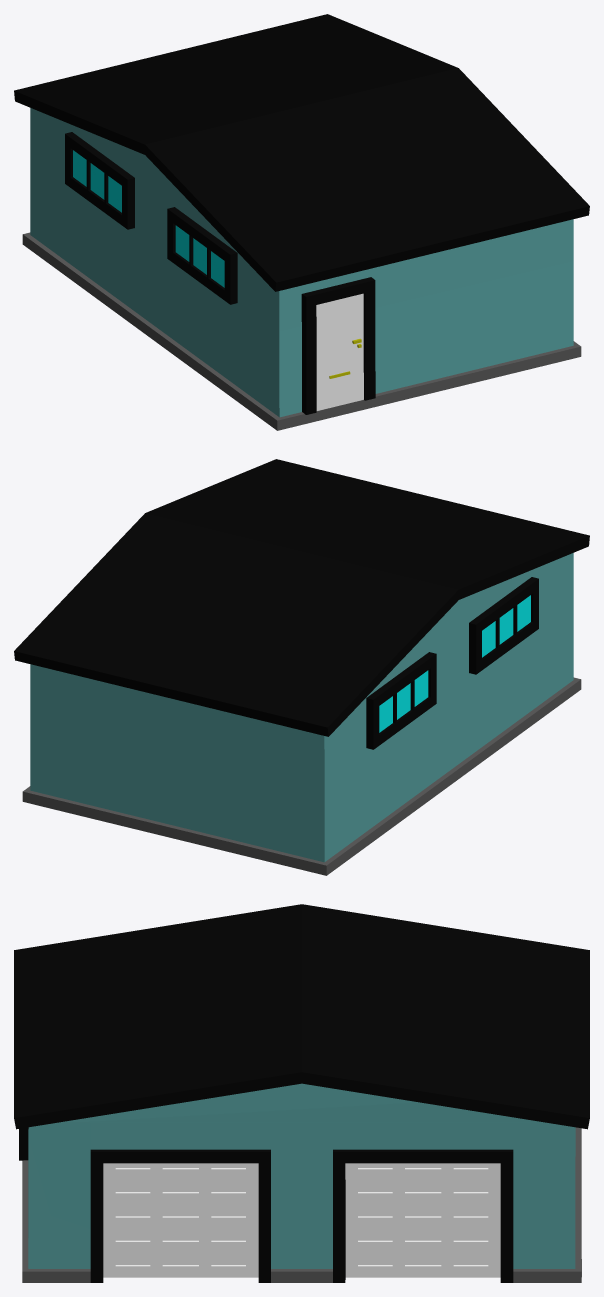
File: garage_002_connected.fbx
3 views of the same model, one above another, from view 1: azimuth 30°, elevation 25°; view 2: azimuth 150°, elevation 25°; view 3: azimuth 270°, elevation 25° (orthographic). The views are drawn at different scales.
Parts seen in each view (by area): view 1: Cube.005; view 2: Cube.005; view 3: Cube.005.
Boxes of the visible parts, x1,y1,x2,y2 form: Cube.005: [14, 14, 589, 430]; Cube.005: [14, 459, 589, 875]; Cube.005: [14, 904, 589, 1282].
Bounding box in the file's own units: 640 × 379 × 927.
